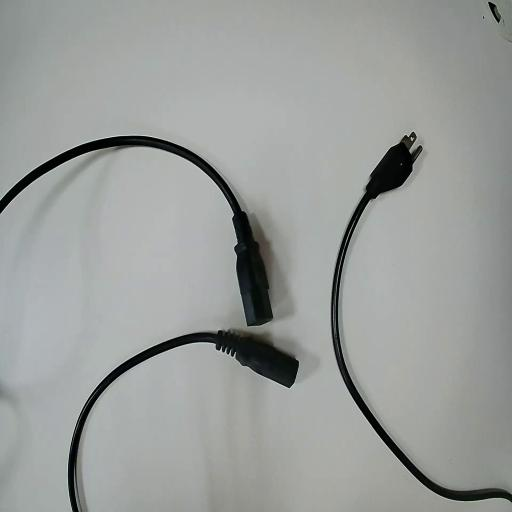wire: (333, 137, 511, 500), (0, 137, 271, 324), (69, 331, 297, 511)
